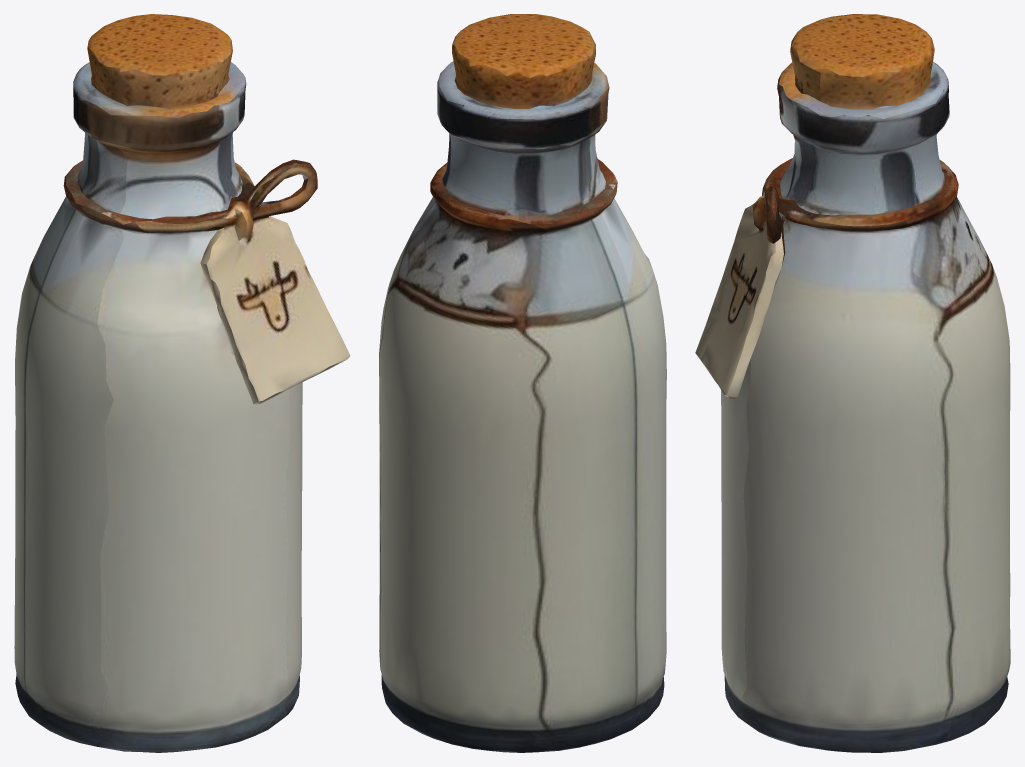
The model's file is goat_milk.glb.
3 views of the same model, side by side, from view 1: azimuth 30°, elevation 25°; view 2: azimuth 150°, elevation 25°; view 3: azimuth 270°, elevation 25° (orthographic).
Visible parts, largest first — view 1: goat_milk; view 2: goat_milk; view 3: goat_milk.
Part boxes in pixels (x1=…): goat_milk: x1=14, y1=14, x2=350, y2=752; goat_milk: x1=379, y1=14, x2=666, y2=752; goat_milk: x1=695, y1=14, x2=1010, y2=752.
Bounding box in the file's own units: 0.3992 × 1 × 0.4355.
Materials: 1 (1 with a texture image).
